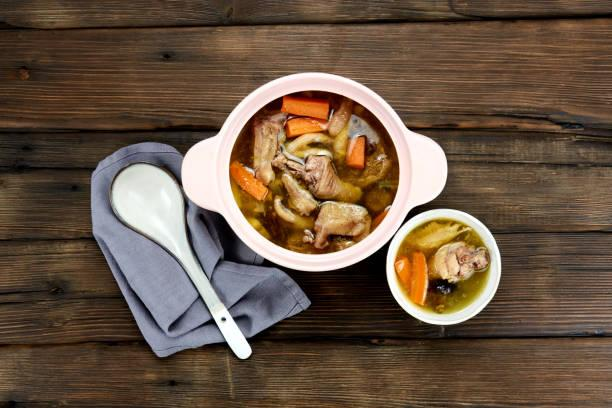Braised Crucian Carp: (181, 71, 449, 272), (388, 208, 503, 325)
